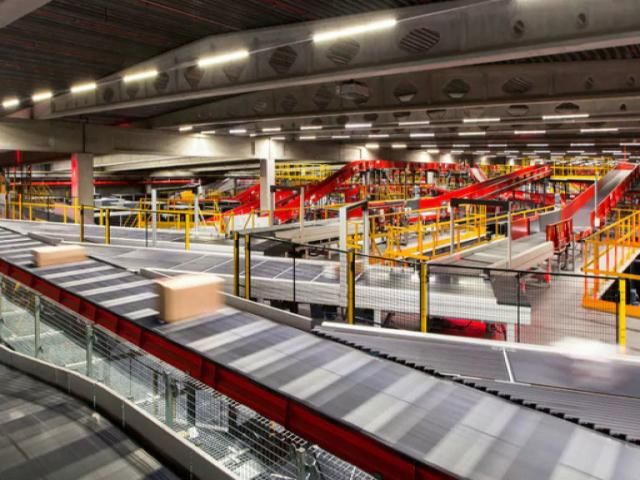conveyor: (0, 209, 639, 479)
